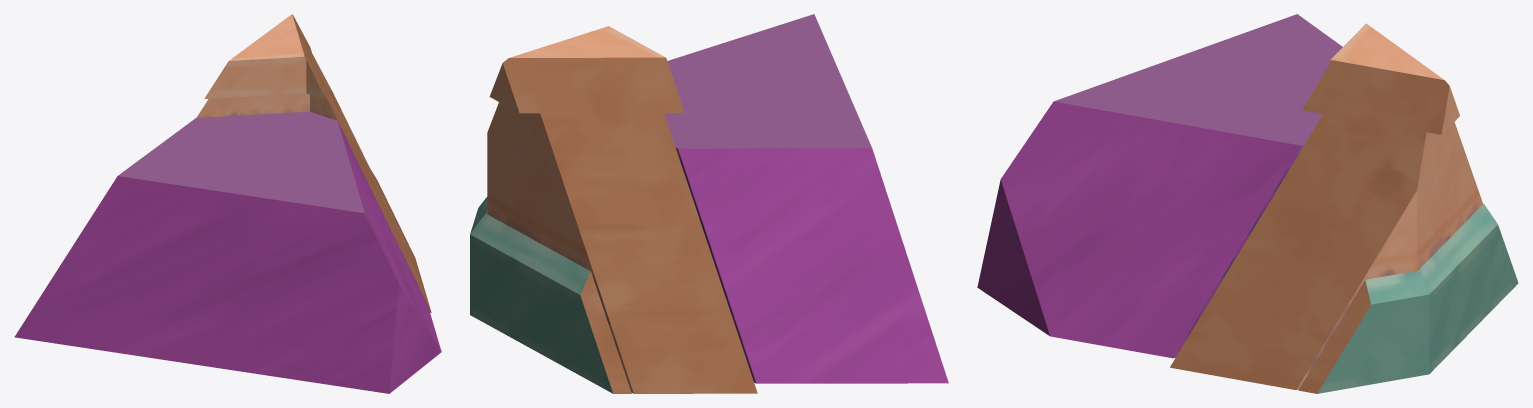
The model's file is vat_plum_s00.fbx.
3 views of the same model, side by side, from view 1: azimuth 30°, elevation 25°; view 2: azimuth 150°, elevation 25°; view 3: azimuth 270°, elevation 25° (orthographic). The views are drawn at different scales.
Parts seen in each view (by area): view 1: vat_plum_s00; view 2: vat_plum_s00; view 3: vat_plum_s00.
Part boxes in pixels (x1,y1,x2,y2): vat_plum_s00: (14, 14, 441, 393); vat_plum_s00: (470, 14, 948, 393); vat_plum_s00: (977, 14, 1518, 393).
Size of the model in its own units: 3.1 by 1.7 by 3.07.
